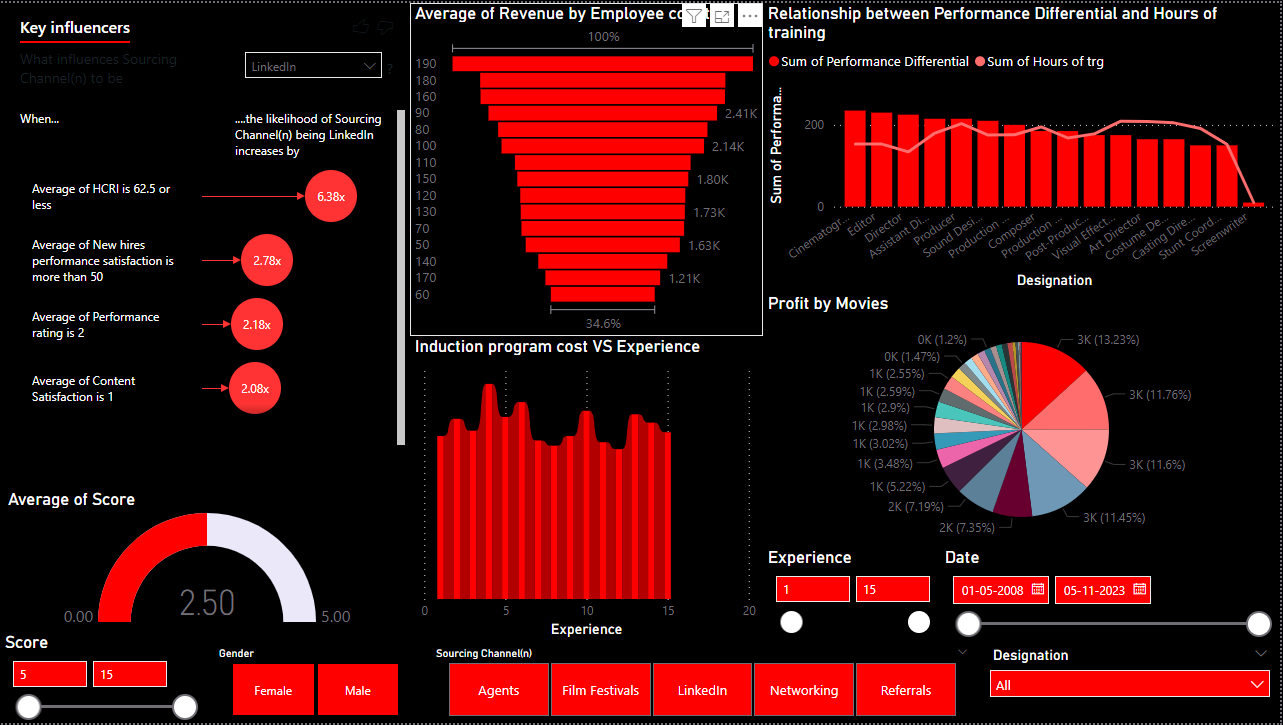

The dashboard page shown, as its layout file describes it:
{"tool":"powerbi","page":{"name":"Page 2","canvas":[1280,720],"ordinal":1},"visuals":[{"type":"lineStackedColumnComboChart","title":"Relationship between Performance Differential and Hours of training","fields":{"Category":["Response.Designation"],"Y2":["Sum(Training and Development.Hours of trg)"],"Y":["Sum(Performance.Performance Differential)"]},"box":[762.5,0,517.5,290],"z":0},{"type":"slicer","fields":{"Values":["Recruitment.Sourcing Channel(n)"]},"box":[422.5,638.8,557.5,81.2],"z":1000},{"type":"keyDriversVisual","fields":{"Target":["Recruitment Analysis.Sourcing Channel(n)"],"ExplainBy":["Talent.Total Score","Index.HCRI","Index.Bars","Avg(Talent.Knowledge level)","Avg(Talent.Performance rating)","Avg(Talent.Skill development)","Avg(Talent.Content Satisfaction)","Avg(Recruitment Analysis.New hires performance satisfaction)","Avg(Performance.Performance Differential)"]},"box":[2.5,0,407.5,477.5],"z":2000},{"type":"slicer","fields":{"Values":["Response.Gender"]},"box":[206.2,638.8,216.2,81.2],"z":3000},{"type":"slicer","fields":{"Values":["Response.Designation"]},"box":[980,638.8,300,81.2],"z":4000},{"type":"funnel","fields":{"Y":["Avg(Cost and Production.Revenue)"],"Category":["Cost and Production.Employee count"]},"box":[410,0,352.9,332.9],"z":5000},{"type":"pieChart","title":"Profit by Movies","fields":{"Category":["Cost and Production.Movie"],"Y":["Sum(Cost and Production.Profit)"]},"box":[762.5,290,517.5,253.8],"z":6000},{"type":"ribbonChart","title":"Induction program cost VS Experience","fields":{"Y":["Avg(Recruitment Analysis.Induction program cost)"],"Category":["Index.Experience"]},"box":[410,332.5,352.5,306.2],"z":7000},{"type":"slicer","title":"Experience","fields":{"Values":["Index.Experience"]},"box":[762.5,543.8,177.5,95],"z":8000},{"type":"gauge","fields":{"Y":["Avg(Cost and Production.Score)"]},"box":[2.5,486.2,408.8,142.5],"z":9000},{"type":"slicer","title":"Date","fields":{"Values":["Recruitment Analysis.Date"]},"box":[940,543.8,340,95],"z":10000},{"type":"slicer","title":"Score","fields":{"Values":["Talent.Total Score"]},"box":[0,629.1,206.4,90.9],"z":11000}]}

Visuals, with their boxes in screenshot pixels (x1, y1, x2, y2), scaled from the page's 1280x720 canvas onto the 1283x725 screenshot:
"Relationship between Performance Differential and Hours of training" lineStackedColumnComboChart: 764, 0, 1282, 292
slicer - Recruitment.Sourcing Channel(n): 423, 643, 982, 724
keyDriversVisual - Recruitment Analysis.Sourcing Channel(n) x Talent.Total Score: 3, 0, 411, 481
slicer - Response.Gender: 207, 643, 423, 724
slicer - Response.Designation: 982, 643, 1282, 724
funnel - Avg(Cost and Production.Revenue) x Cost and Production.Employee count: 411, 0, 765, 335
"Profit by Movies" pieChart: 764, 292, 1282, 548
"Induction program cost VS Experience" ribbonChart: 411, 335, 764, 643
"Experience" slicer: 764, 548, 942, 643
gauge - Avg(Cost and Production.Score): 3, 490, 412, 633
"Date" slicer: 942, 548, 1282, 643
"Score" slicer: 0, 633, 207, 724
